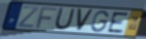E: (107, 11, 130, 34)
F: (35, 7, 58, 30)
G: (90, 10, 110, 33)
U: (53, 6, 77, 31)
V: (76, 8, 95, 32)
Z: (17, 5, 40, 29)
